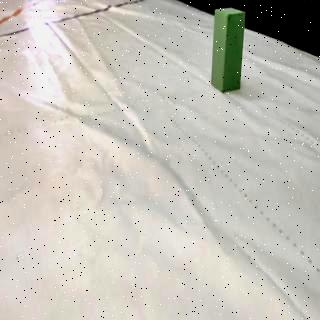greenbox: (212, 8, 246, 92)
